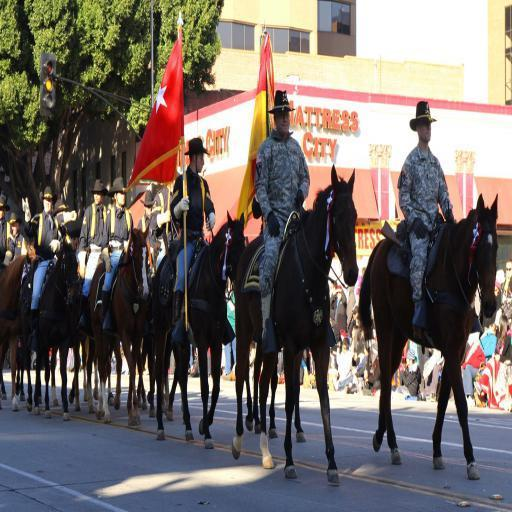horse: (356, 191, 501, 481), (232, 161, 360, 488), (154, 210, 248, 452), (18, 234, 82, 422), (89, 224, 150, 414), (0, 247, 32, 407)
